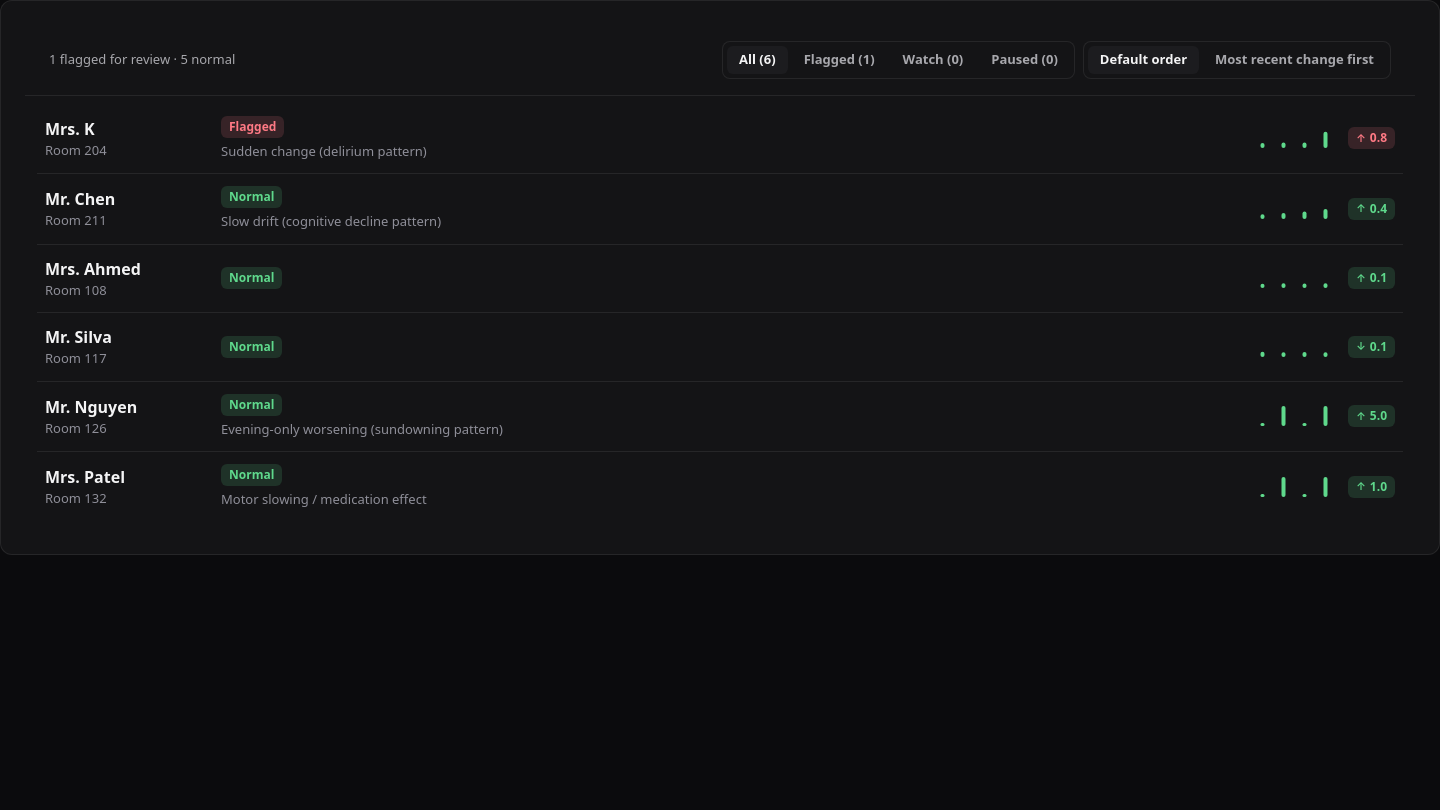
Test: UnitOverview › shows "No residents to watch." when the watch filter is empty
The image size is (1440, 810).
Expected: the number of list items is 6, [37, 104, 1403, 173]; [37, 173, 1403, 244]; [37, 244, 1403, 312]; [37, 312, 1403, 380]; [37, 380, 1403, 451]; [37, 451, 1403, 522]
Click the button "Watch (0)". click: (933,60)
box: [891, 46, 975, 74]
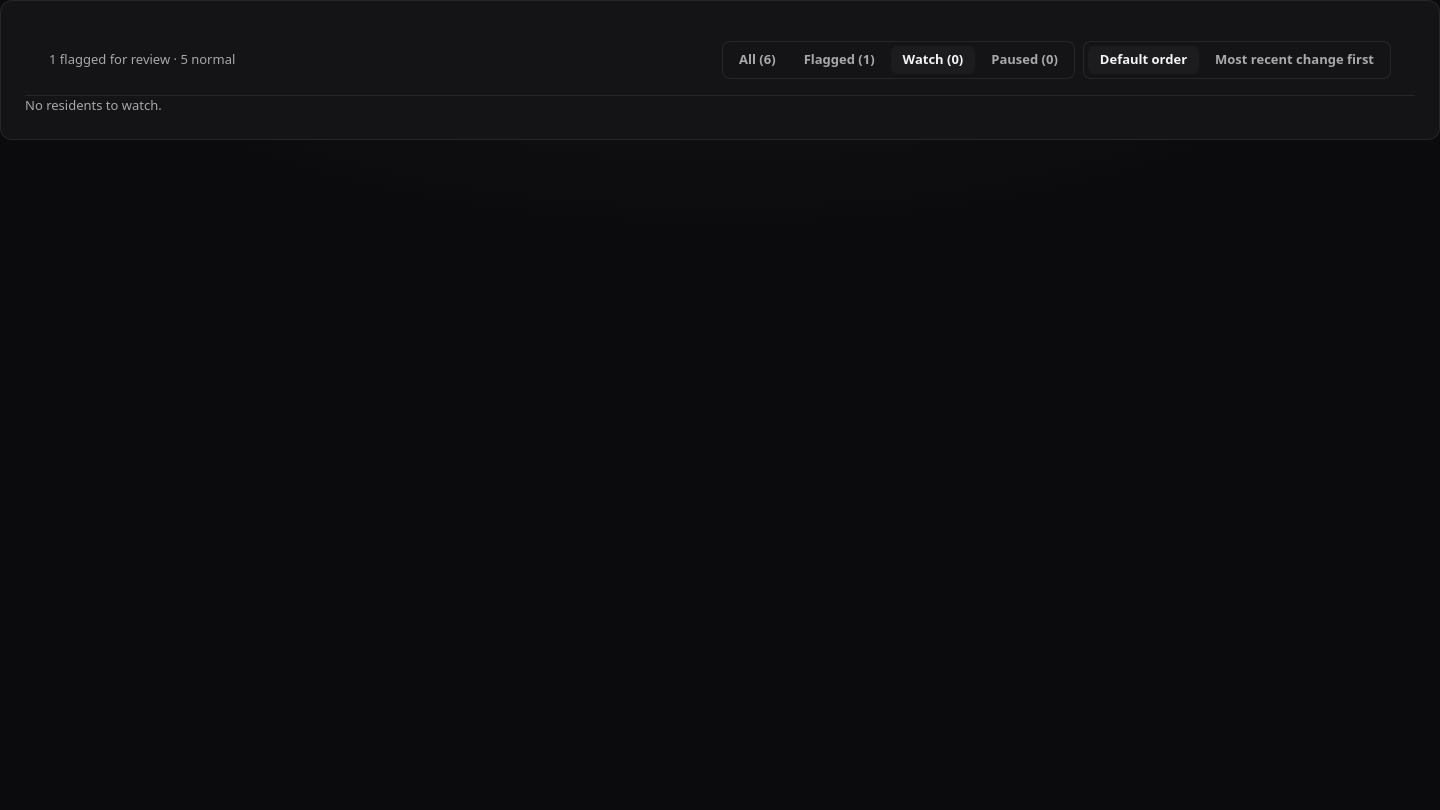
Expected: the text "No residents to watch." is shown, [25, 96, 162, 114]
Expected: the list is gone
